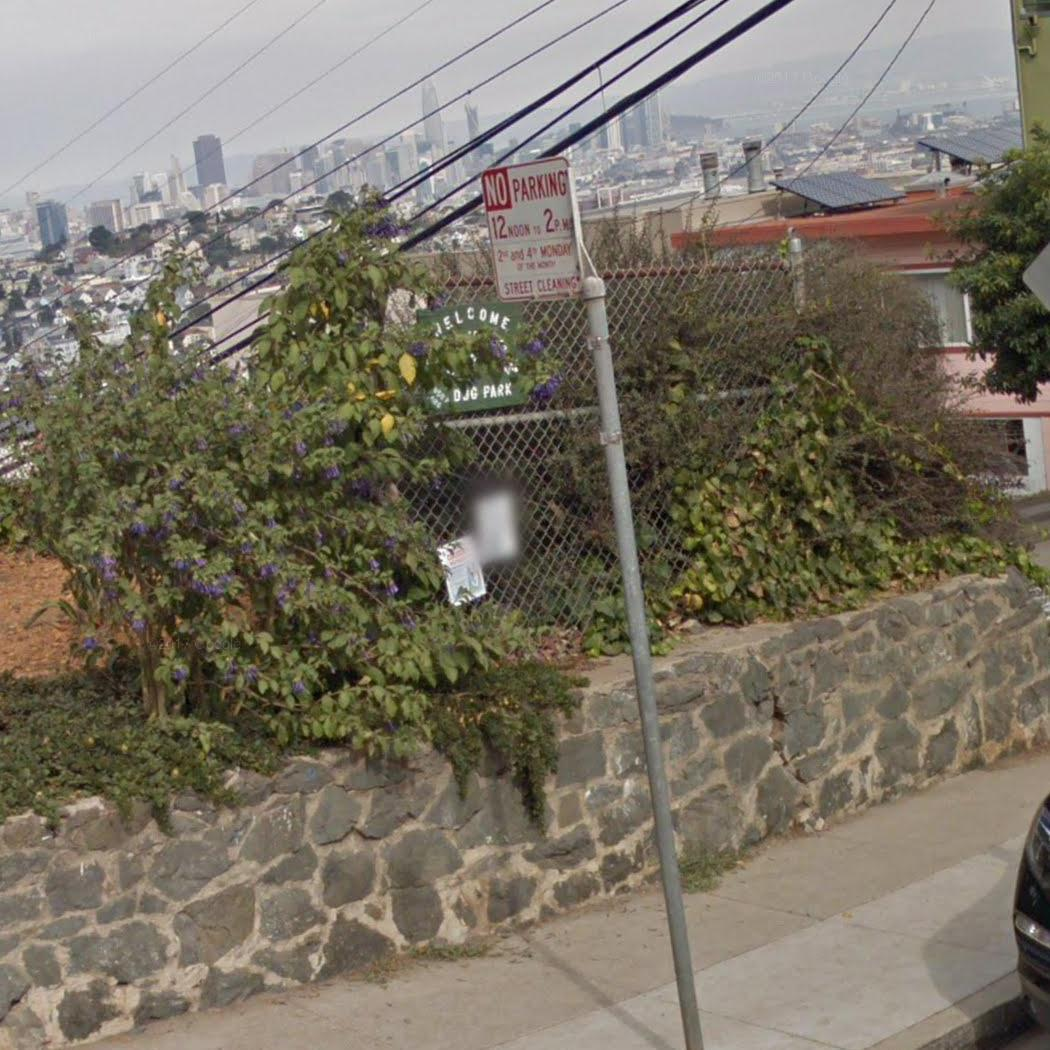No Parking: (479, 153, 587, 308)
